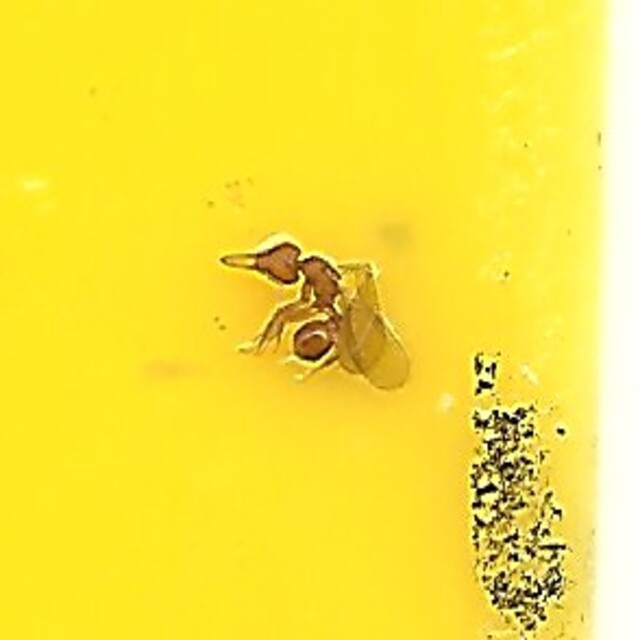Hymenoptera: (218, 237, 422, 403)
